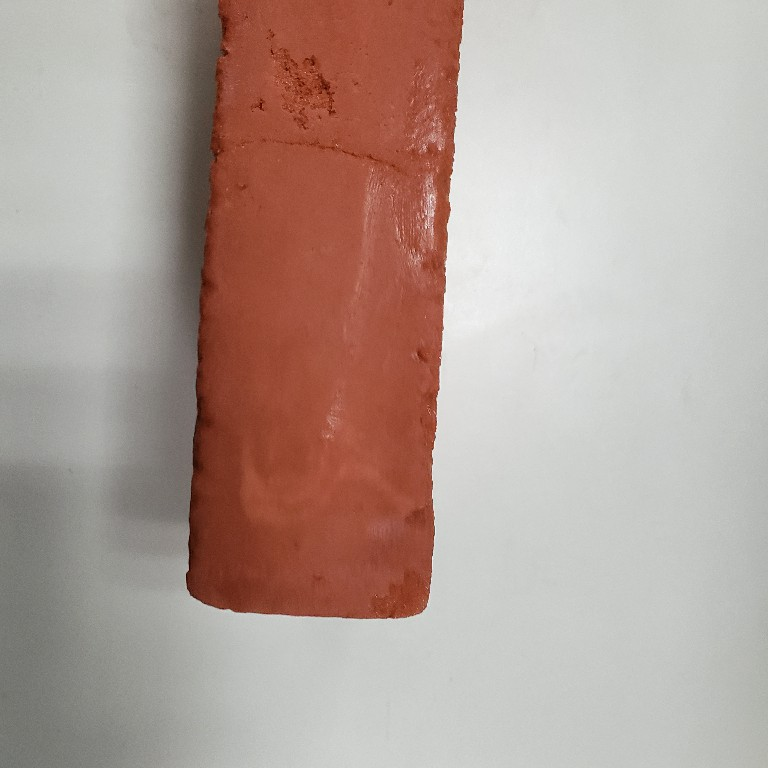brick: (173, 1, 487, 630)
